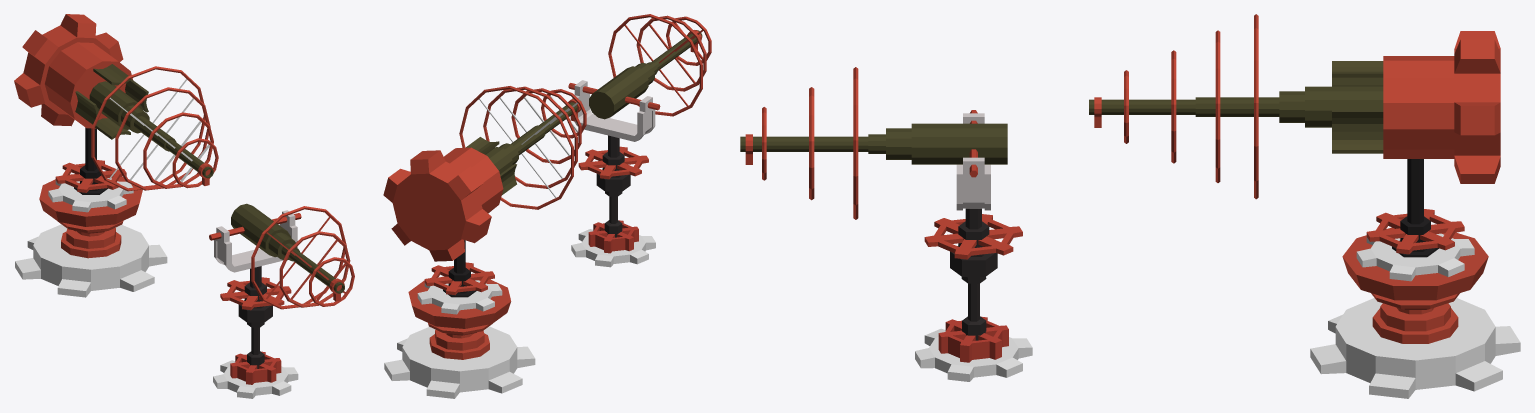
Rendered from Sub - Torret Plants Set 1.1.fbx.
3 views of the same model, side by side, from view 1: azimuth 30°, elevation 25°; view 2: azimuth 150°, elevation 25°; view 3: azimuth 270°, elevation 25° (orthographic). The views are drawn at different scales.
Parts seen in each view (by area): view 1: Laser_2_Gun.020, Laser_2_Base, Laser_1_Mid.001, Laser_1_Base; view 2: Laser_2_Gun.020, Laser_2_Base, Laser_1_Mid.001, Laser_1_Base; view 3: Laser_2_Gun.020, Laser_2_Base, Laser_1_Mid.001, Laser_1_Base.
Boxes of the visible parts, bbox=[...] form: Laser_2_Gun.020: bbox=[14, 14, 218, 212]; Laser_2_Base: bbox=[15, 174, 167, 297]; Laser_1_Mid.001: bbox=[209, 203, 354, 368]; Laser_1_Base: bbox=[213, 351, 298, 398]; Laser_2_Gun.020: bbox=[383, 86, 586, 314]; Laser_2_Base: bbox=[384, 276, 535, 398]; Laser_1_Mid.001: bbox=[568, 14, 711, 237]; Laser_1_Base: bbox=[571, 220, 655, 267]; Laser_2_Gun.020: bbox=[1089, 14, 1500, 281]; Laser_2_Base: bbox=[1310, 227, 1520, 398]; Laser_1_Mid.001: bbox=[740, 67, 1022, 340]; Laser_1_Base: bbox=[915, 316, 1032, 381].
Bounding box in the file's own units: 424 × 740 × 1573.
